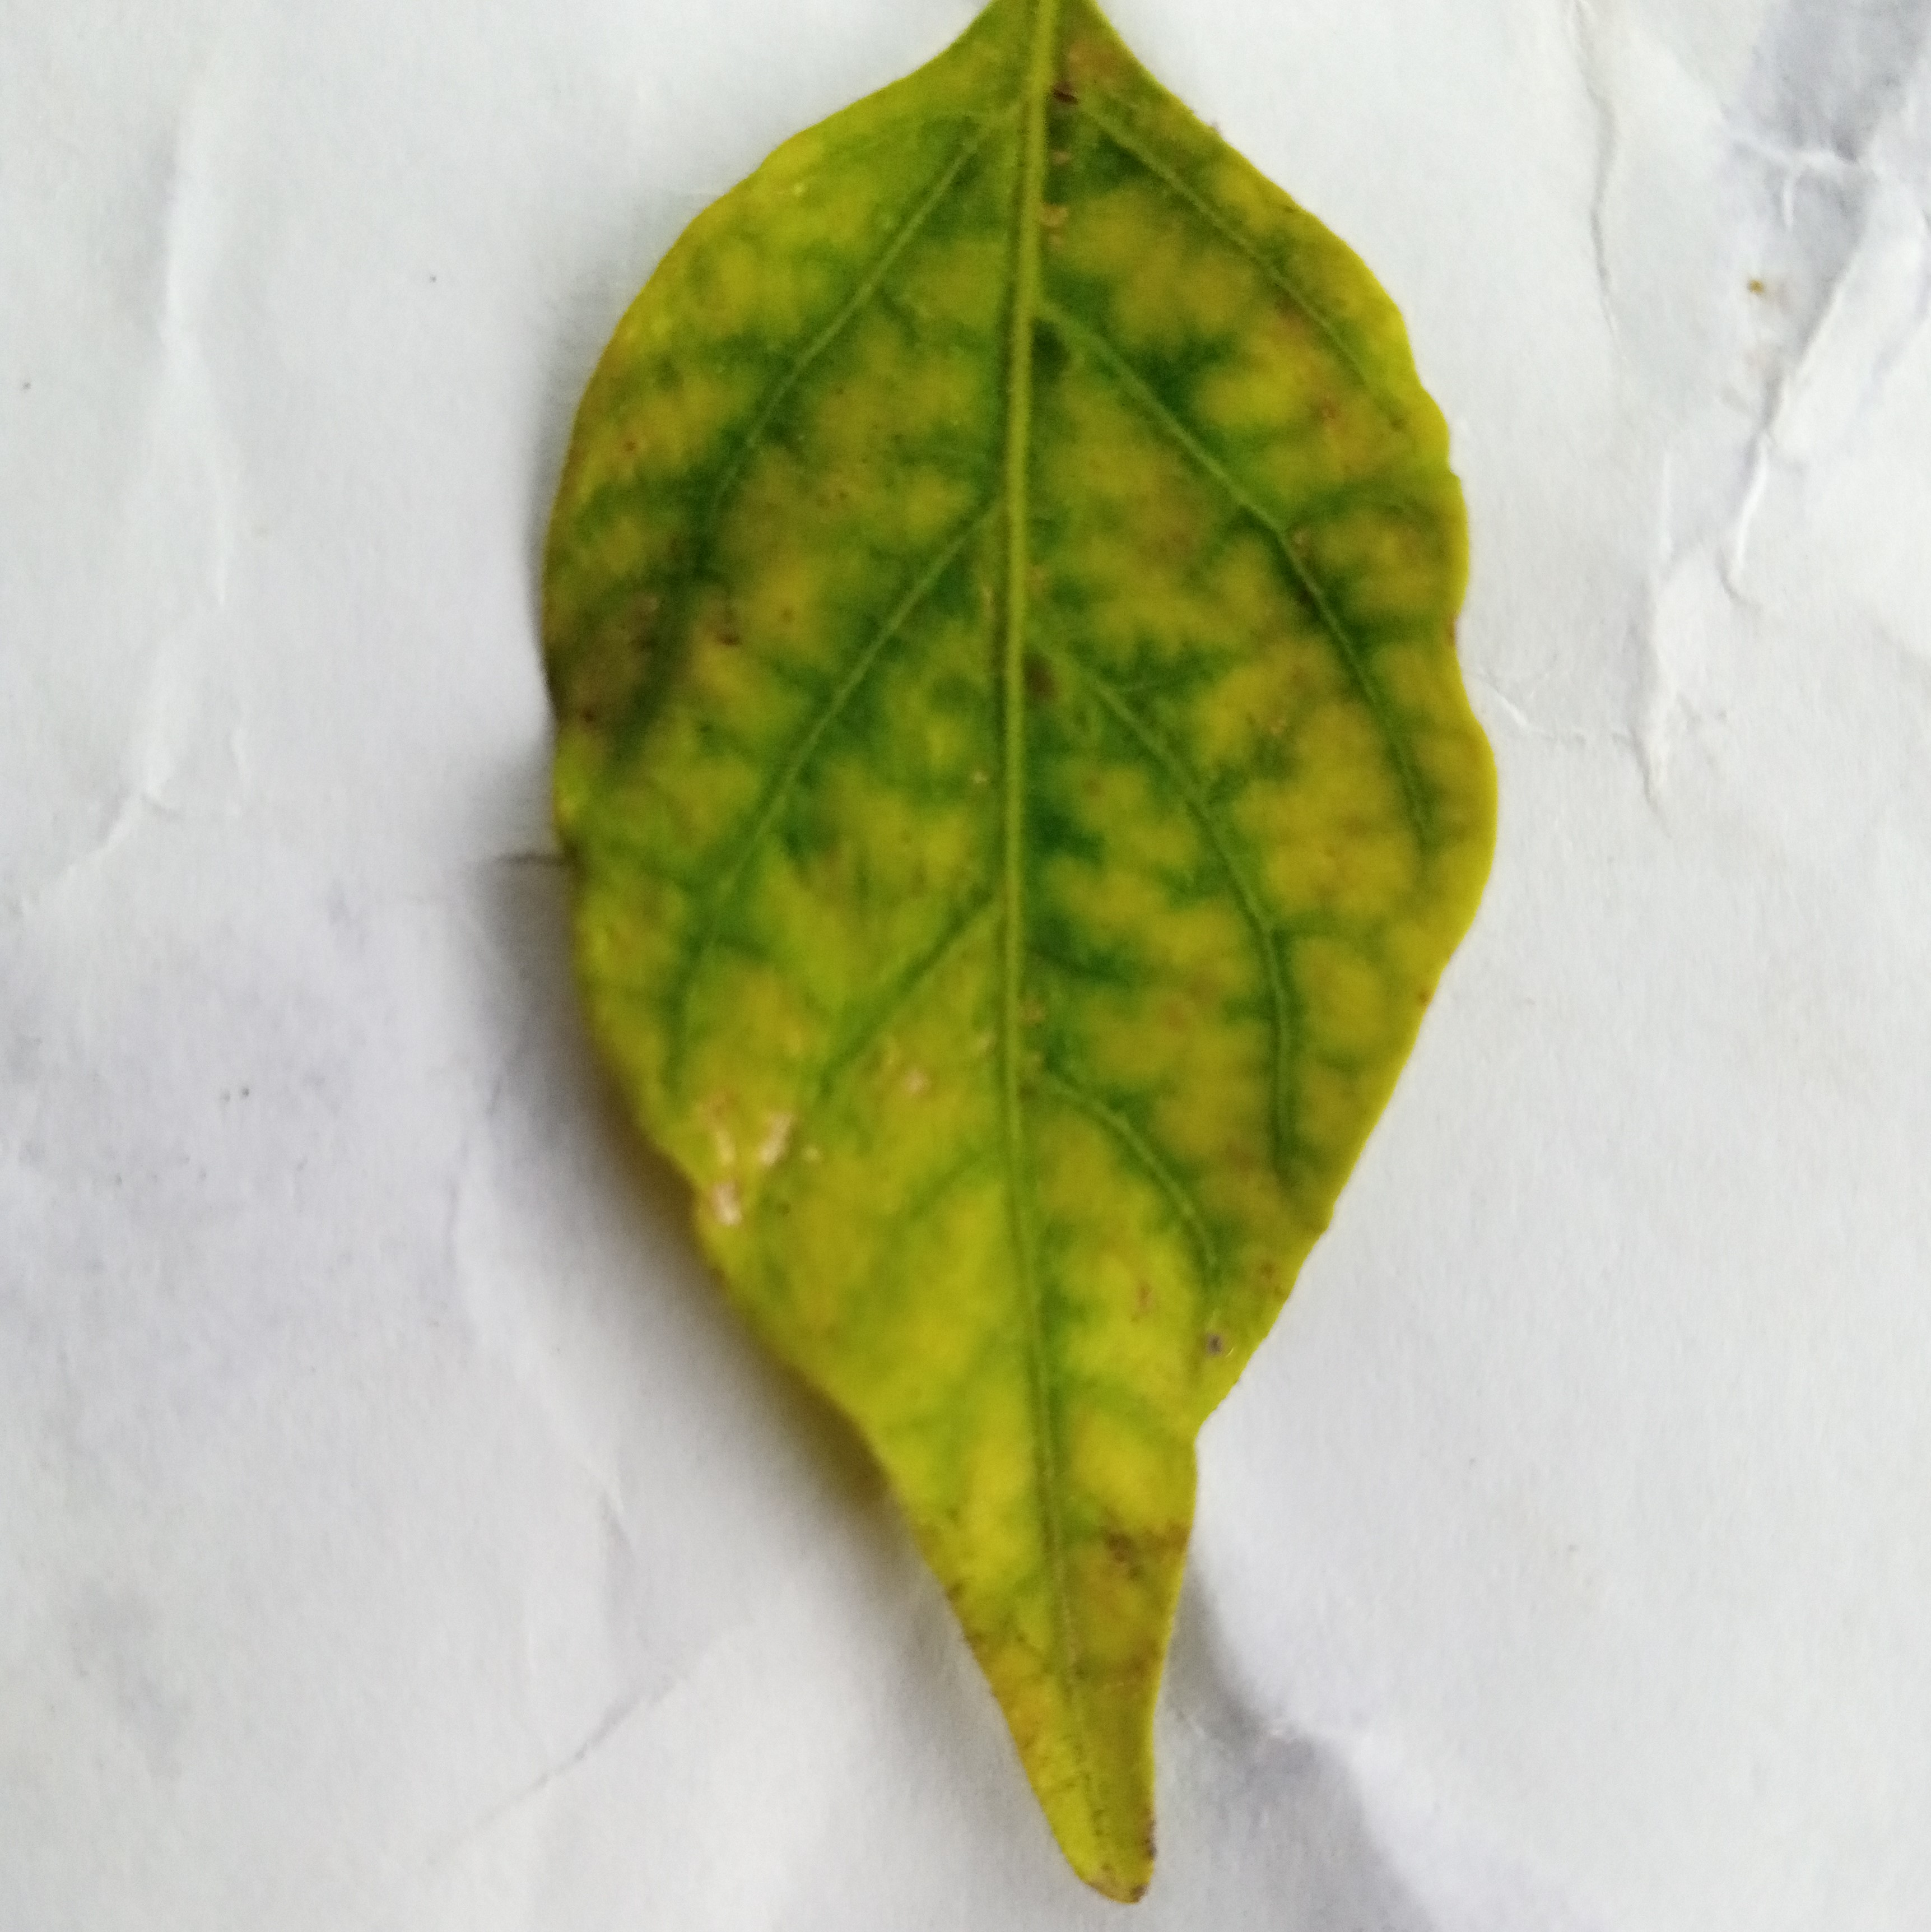Leaf: (414, 30, 1505, 1932)
